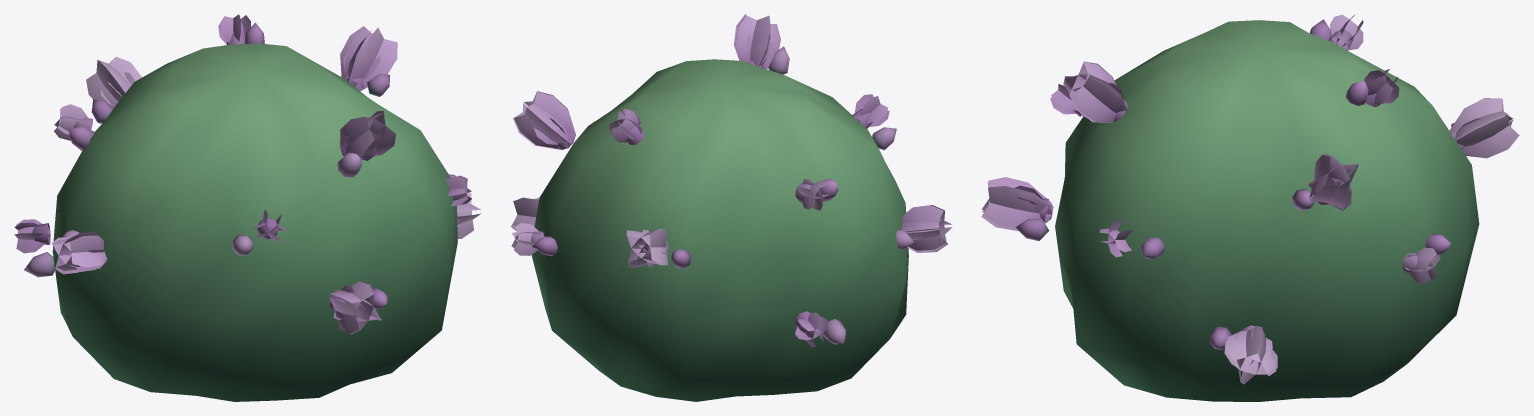
The model's file is rose_mauve.glb.
The picture shows the model from 3 angles, left to right: view 1: azimuth 30°, elevation 25°; view 2: azimuth 150°, elevation 25°; view 3: azimuth 270°, elevation 25°; orthographic projection. The views are drawn at different scales.
Parts seen in each view (by area): view 1: rose_mauve; view 2: rose_mauve; view 3: rose_mauve.
Part boxes in pixels (box(x1,y1,x2,y2)): rose_mauve: box(14, 14, 480, 401); rose_mauve: box(510, 14, 952, 401); rose_mauve: box(981, 14, 1519, 401).
Size of what is drawn, in the model's own units: 1.82 by 1.12 by 1.82.
